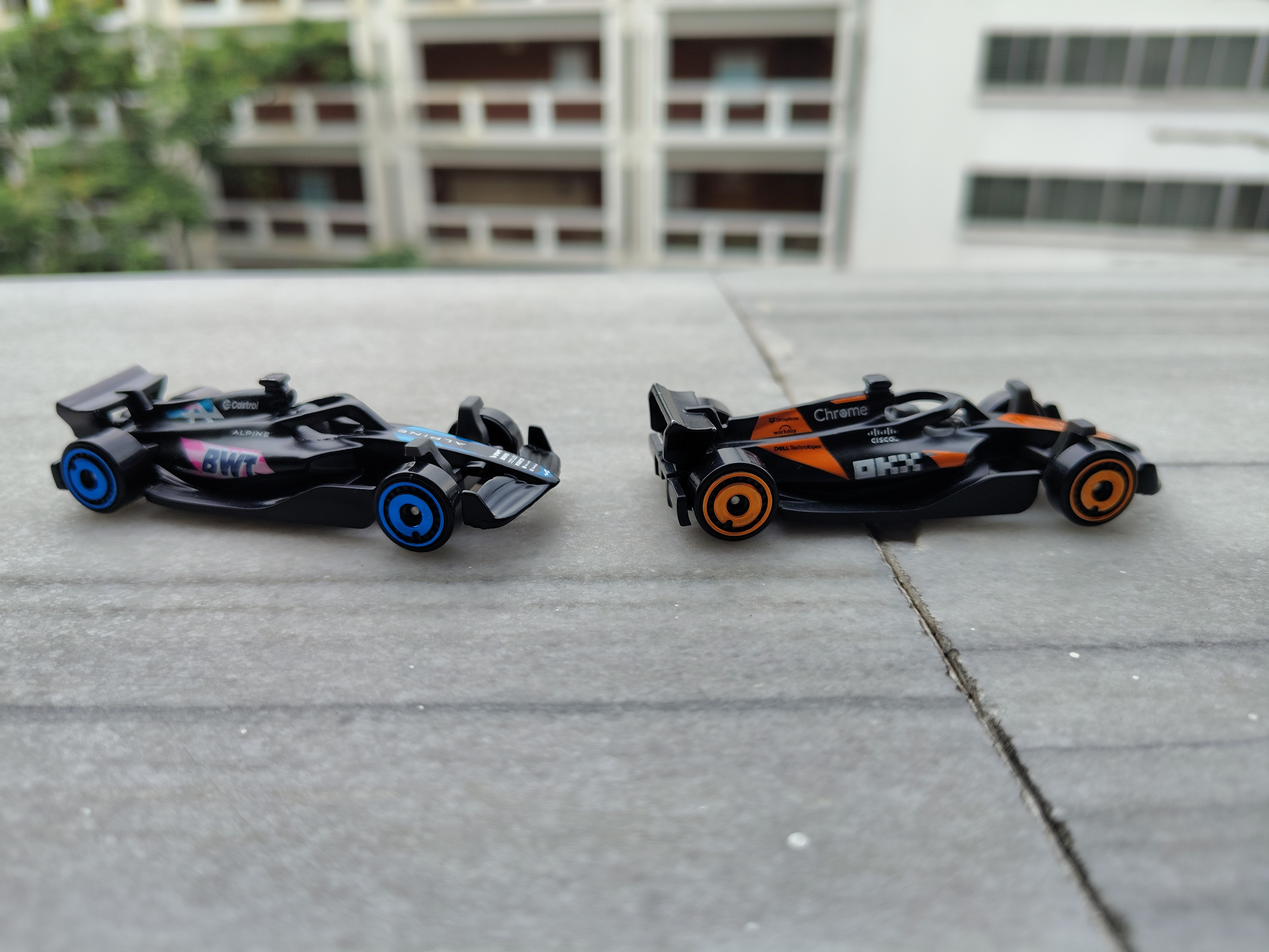Alpine A524: (22, 293, 581, 583)
McLaren MCL40: (604, 311, 1176, 589)
